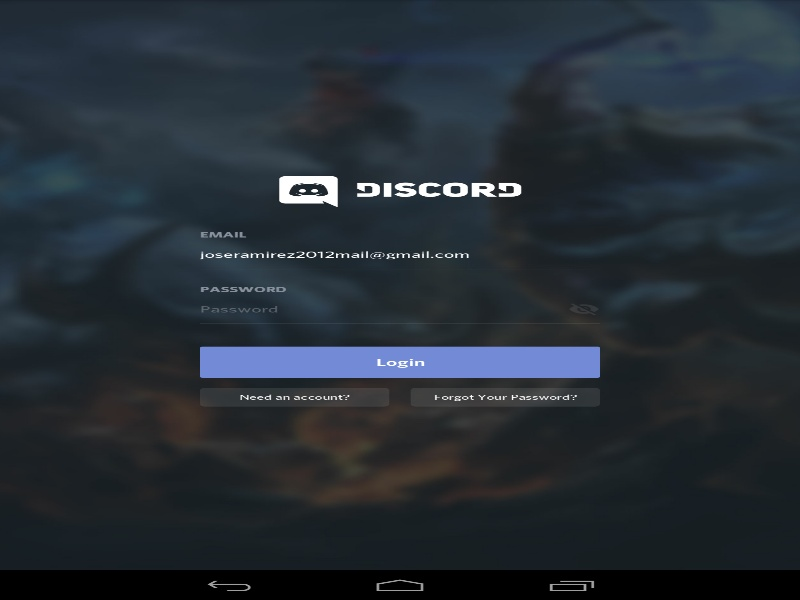Input: (200, 239, 600, 269), (200, 294, 568, 324)
